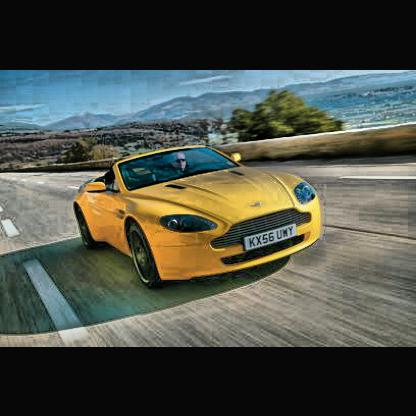Aston Martin V8 Vantage Convertible 2012: (74, 144, 322, 290)
